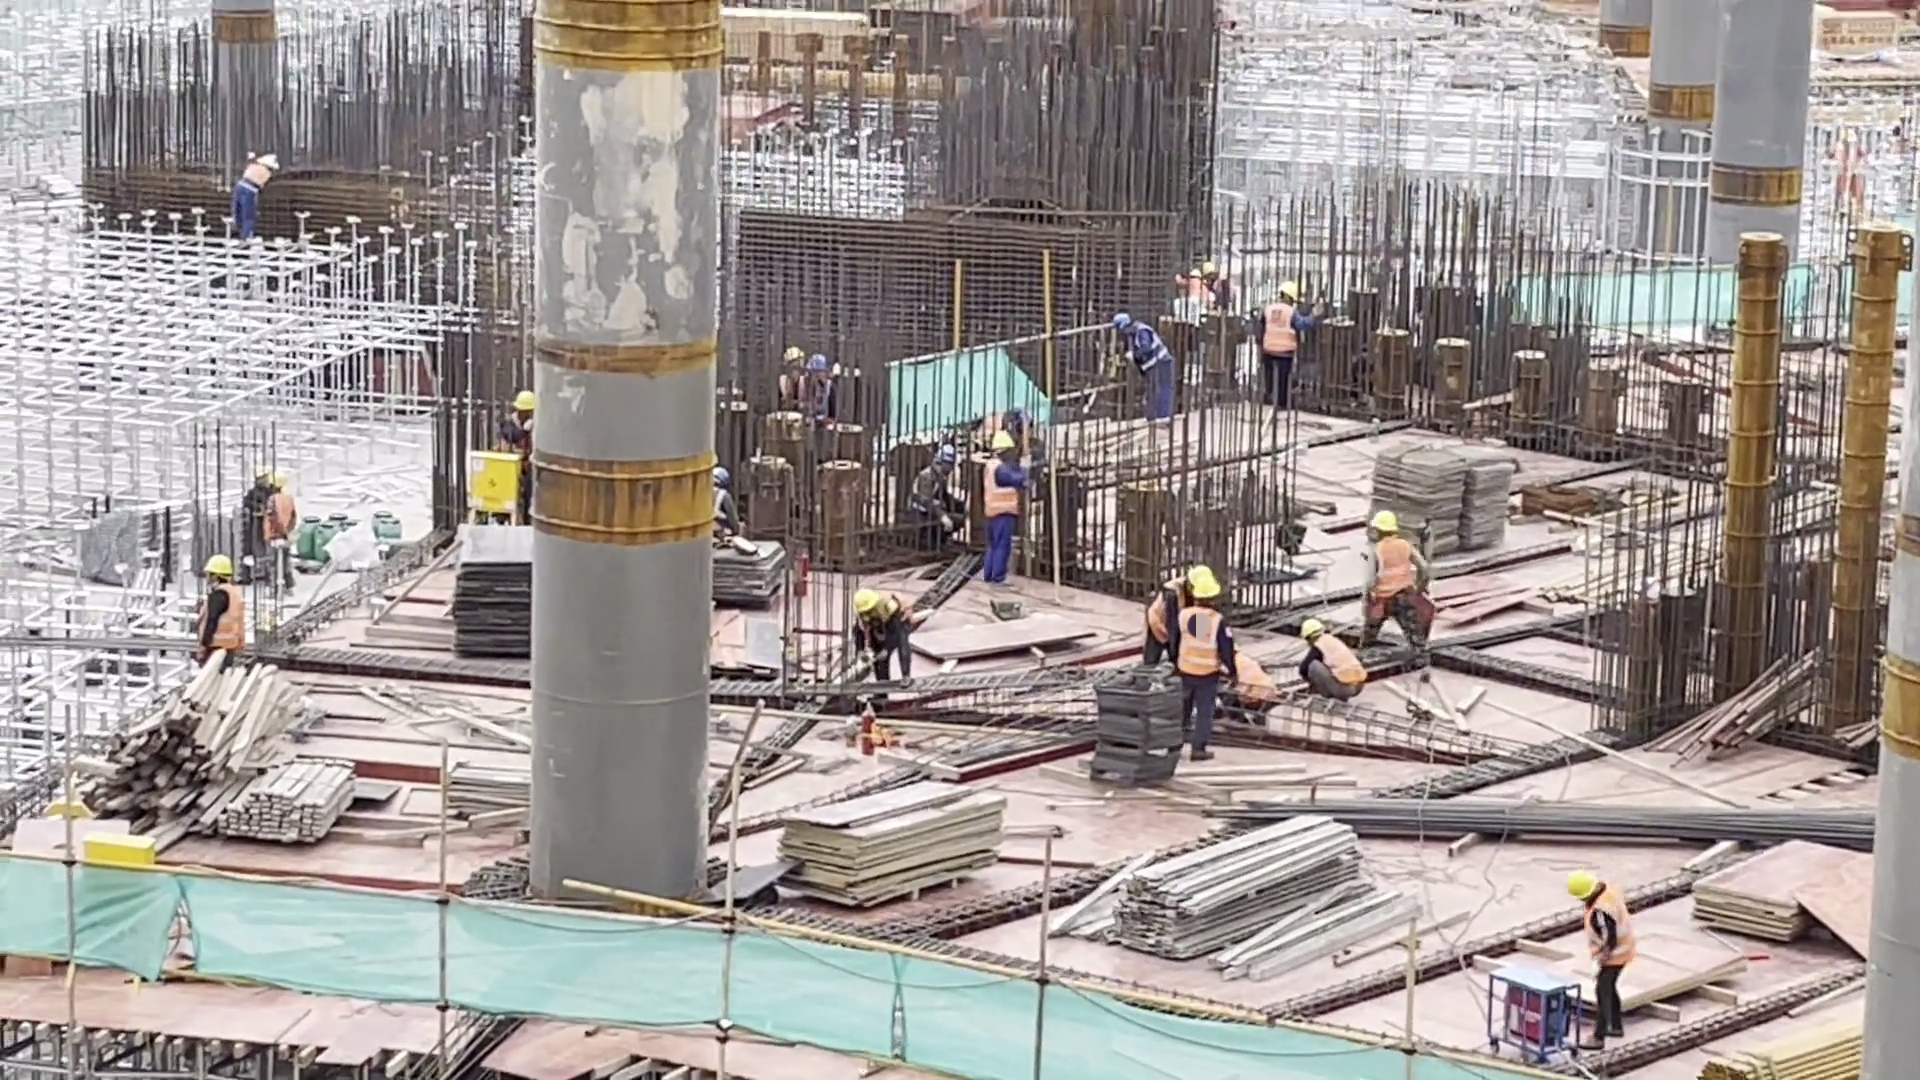helmet: (1568, 867, 1598, 903), (1190, 575, 1222, 601), (850, 587, 879, 616), (1373, 507, 1399, 535), (204, 551, 233, 576), (1299, 617, 1324, 639), (992, 429, 1015, 451), (1278, 279, 1300, 303), (1111, 313, 1129, 330)
person: (1358, 497, 1437, 679), (1568, 866, 1635, 1054), (1260, 276, 1331, 410), (1188, 577, 1228, 768), (1293, 614, 1369, 708), (978, 432, 1024, 581), (1110, 316, 1178, 417), (195, 550, 253, 659), (908, 441, 969, 541), (851, 588, 915, 679), (228, 143, 282, 239), (1142, 563, 1184, 656), (238, 459, 268, 574), (275, 468, 295, 590), (806, 352, 838, 425), (498, 385, 533, 450), (714, 465, 740, 546), (778, 341, 804, 421), (1176, 264, 1206, 314), (1204, 255, 1232, 307)
vest: (1586, 888, 1636, 968), (1179, 605, 1224, 677), (201, 585, 248, 652), (1369, 535, 1415, 595), (1314, 633, 1368, 683), (1129, 321, 1174, 371), (984, 458, 1019, 517), (1263, 305, 1299, 357)
